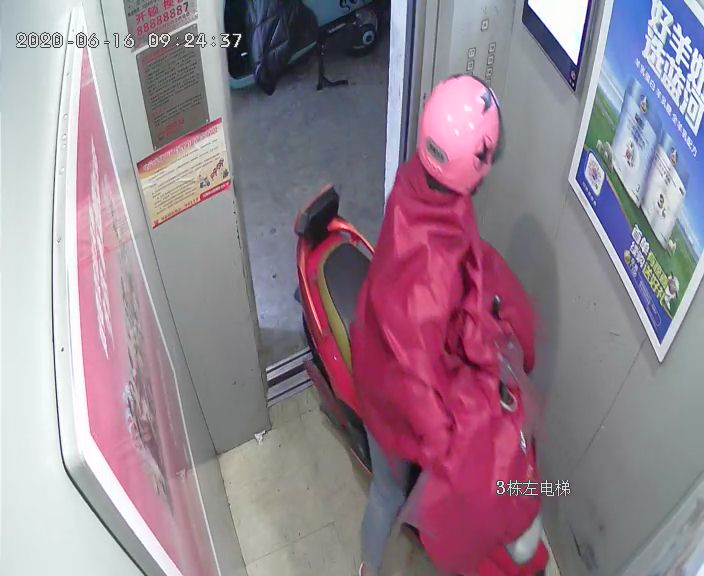Electric-bicycle: (295, 188, 556, 576)
